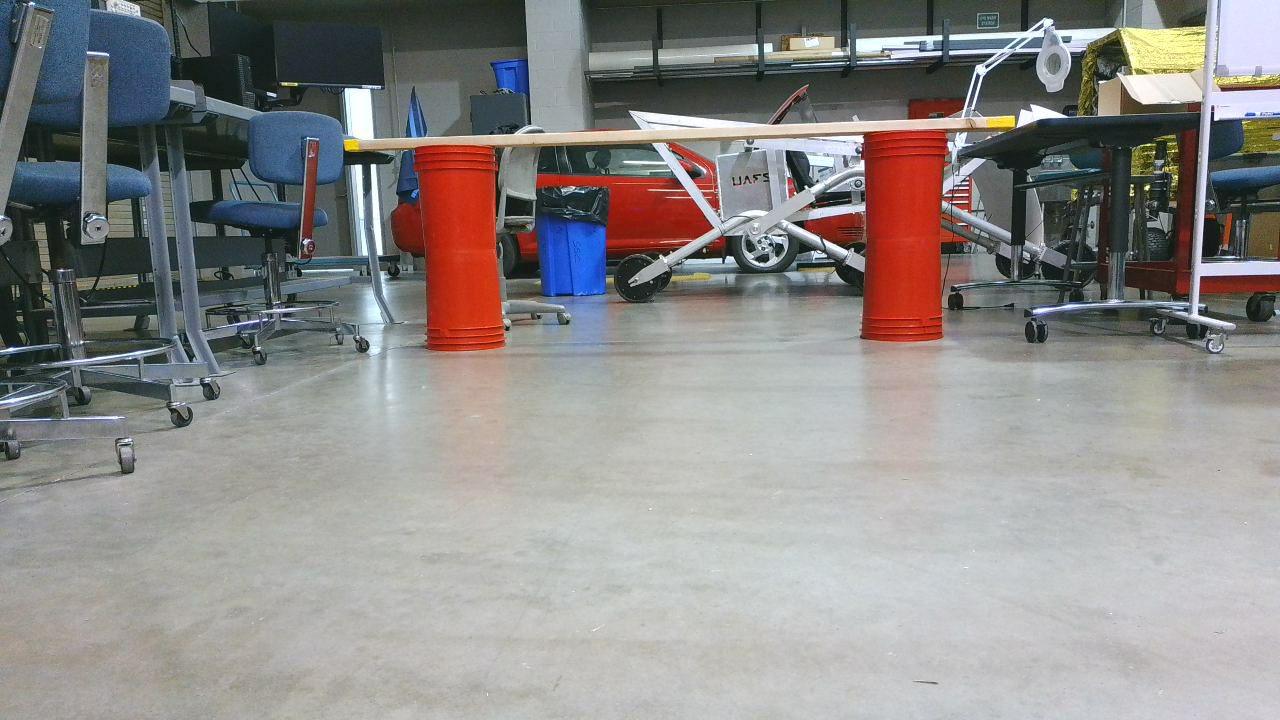red_bucket_arch: (417, 116, 956, 357)
